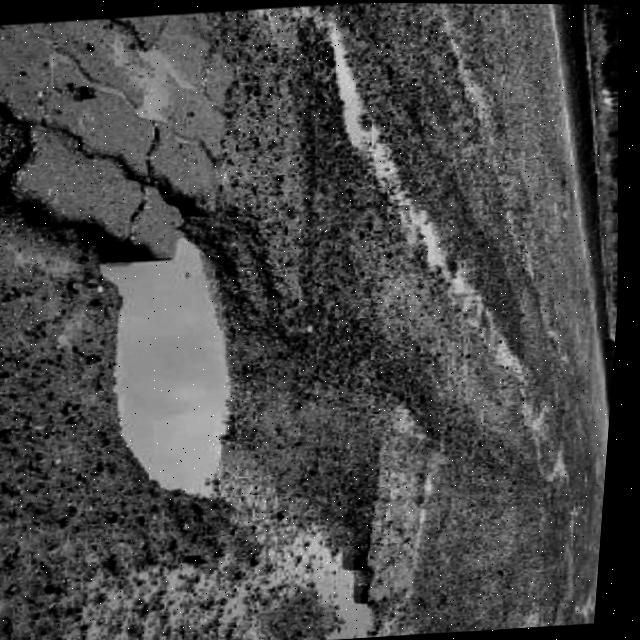Pothole: (77, 175, 277, 508)
